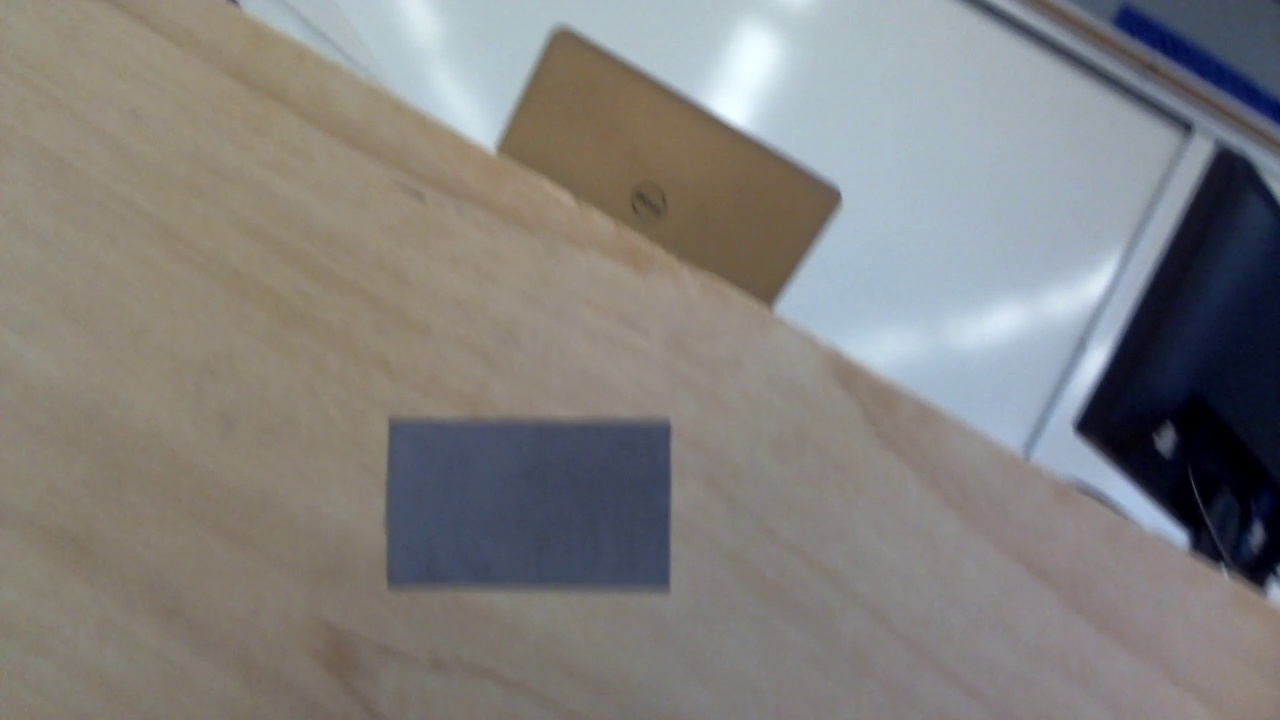Tape: (387, 418, 673, 592)
